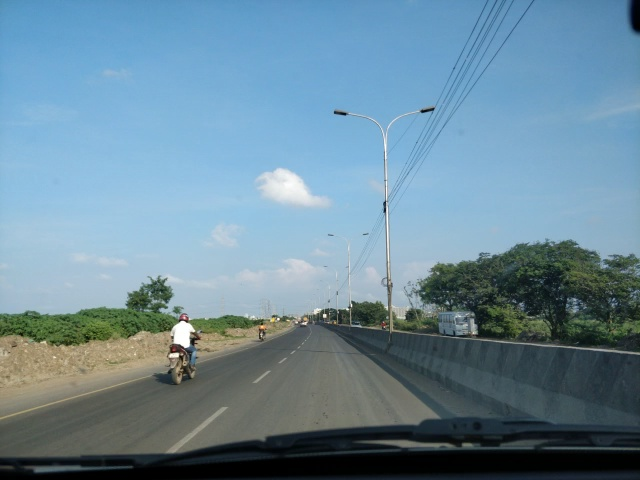bus: (423, 287, 488, 349)
car: (346, 315, 363, 333), (298, 314, 311, 333)
motorbike: (150, 304, 219, 392), (246, 319, 284, 347), (379, 317, 394, 334)
